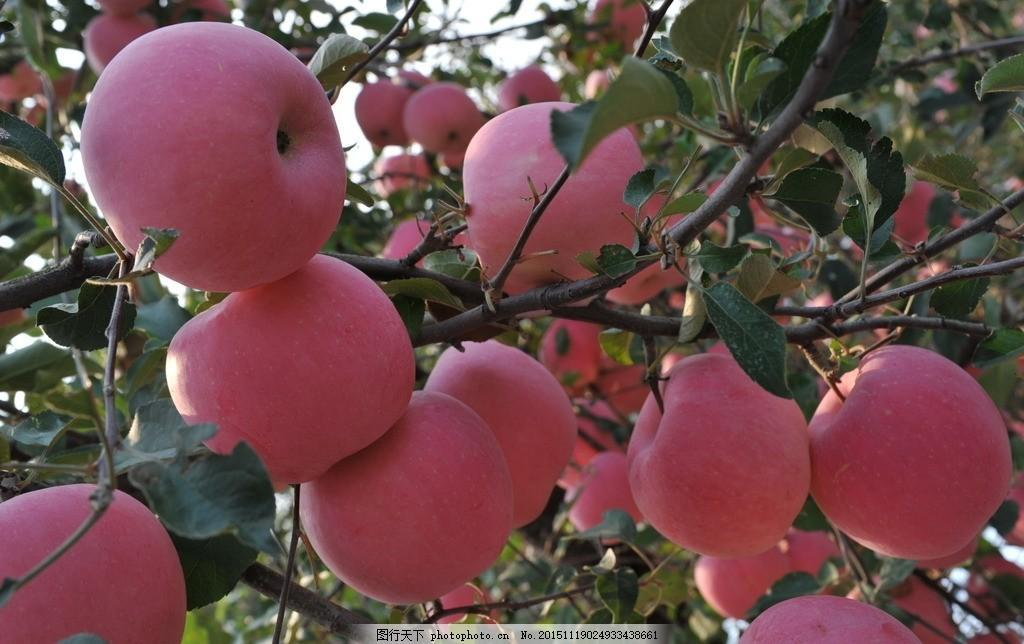apple: (76, 18, 354, 293), (159, 262, 412, 487), (294, 394, 517, 609), (795, 349, 989, 561), (458, 100, 648, 291), (628, 359, 805, 555), (404, 85, 486, 168), (353, 79, 412, 151)
